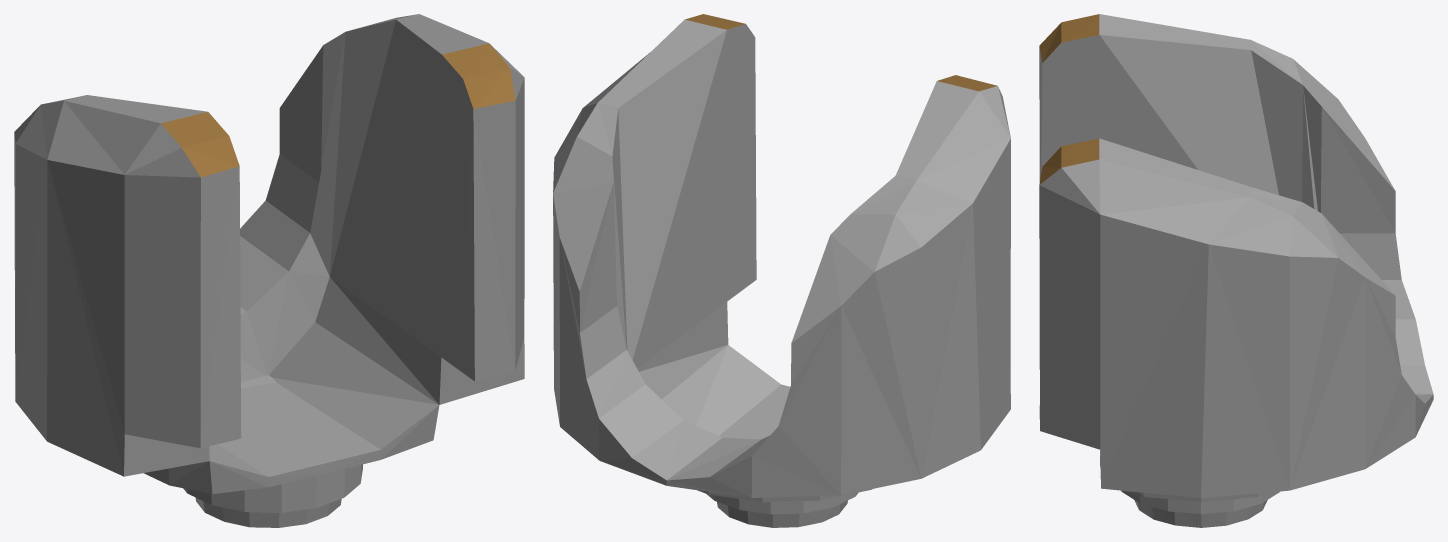
3 views of the same model, side by side, from view 1: azimuth 30°, elevation 25°; view 2: azimuth 150°, elevation 25°; view 3: azimuth 270°, elevation 25° (orthographic). The views are drawn at different scales.
Visible parts, largest first — view 1: f20; view 2: f20; view 3: f20.
Boxes of the visible parts, x1,y1,x2,y2 form: f20: (14, 14, 524, 527); f20: (553, 14, 1010, 527); f20: (1039, 14, 1433, 527).
Size of the model in its own units: 22.99 by 19.48 by 22.51.
